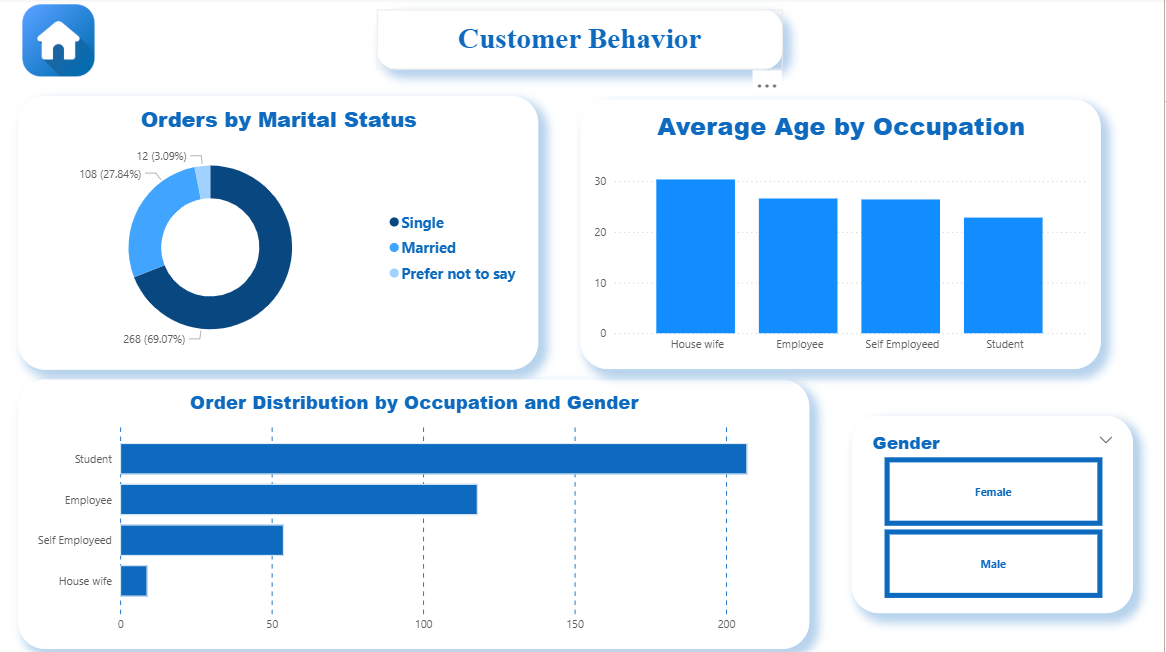

Layout of this report page (visuals, bound fields, positions):
{"tool":"powerbi","page":{"name":"Customer Behavior","canvas":[1280,720],"ordinal":1},"visuals":[{"type":"textbox","box":[415.8,13.7,446,65.9],"z":0},{"type":"donutChart","title":"Orders by Marital Status","fields":{"Category":["Table1.Marital Status"],"Y":["CountNonNull(Table1.Age)"]},"box":[22,108.4,570.8,300.5],"z":1000},{"type":"barChart","title":"Order Distribution by Occupation and Gender","fields":{"Category":["Table1.Occupation"],"Y":["CountNonNull(Table1.Gender)"]},"box":[22,419.9,868.6,296.4],"z":2000},{"type":"clusteredColumnChart","title":"Average Age by Occupation","fields":{"Category":["Table1.Occupation"],"Y":["Avg(Table1.Age)"]},"box":[639.5,112.5,570.8,296.4],"z":3000},{"type":"slicer","fields":{"Values":["Table1.Gender"]},"box":[937.2,459.7,308.7,216.8],"z":4000},{"type":"image","box":[22,0,89.2,94.7],"z":5000}]}

Visuals, with their boxes in screenshot pixels (x1, y1, x2, y2), scaled from the page's 1280x720 canvas onto the 1166x652 screenshot:
textbox: {"x1": 379, "y1": 12, "x2": 785, "y2": 72}
"Orders by Marital Status" donutChart: {"x1": 20, "y1": 98, "x2": 540, "y2": 370}
"Order Distribution by Occupation and Gender" barChart: {"x1": 20, "y1": 380, "x2": 811, "y2": 649}
"Average Age by Occupation" clusteredColumnChart: {"x1": 583, "y1": 102, "x2": 1103, "y2": 370}
slicer - Table1.Gender: {"x1": 854, "y1": 416, "x2": 1135, "y2": 613}
image: {"x1": 20, "y1": 0, "x2": 101, "y2": 86}
